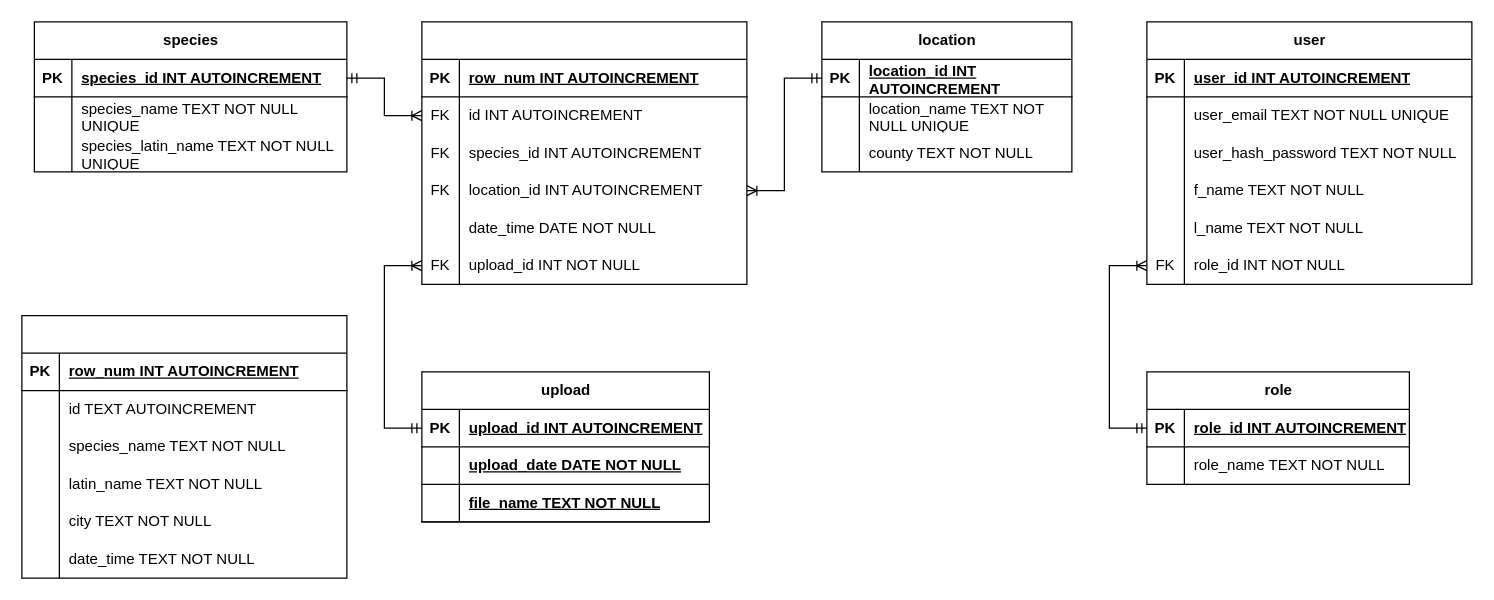
Image size: 1494x600. Some labels were removed from this diagram. The shapes that lost their labels are listed below. From the top down, each one's box as (x1, y1, x2, y2) in pixels, then its label:
(421, 21, 747, 284): sighting
(21, 314, 347, 578): inaccurate_data
